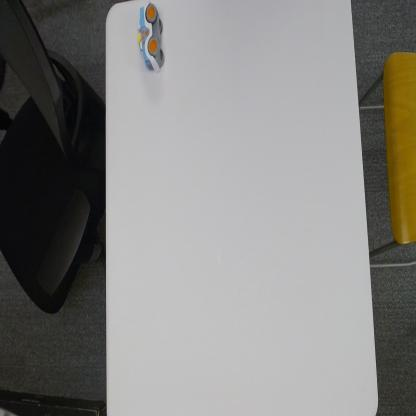Car: (136, 1, 166, 74)
